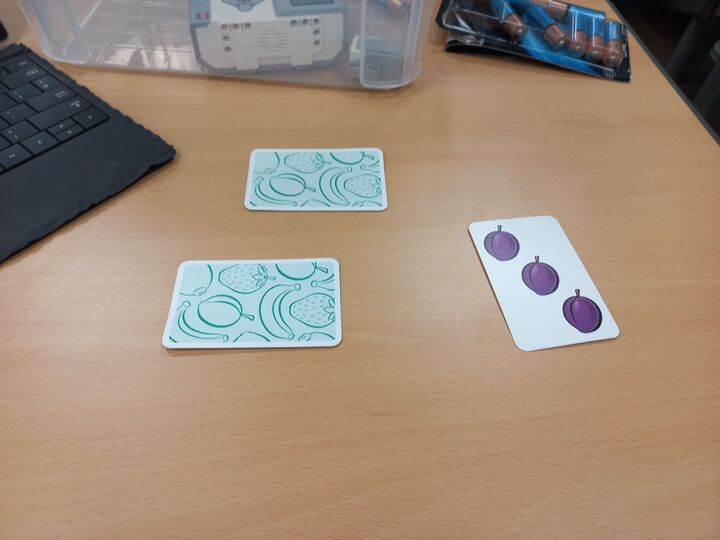plum3: (466, 214, 622, 352)
